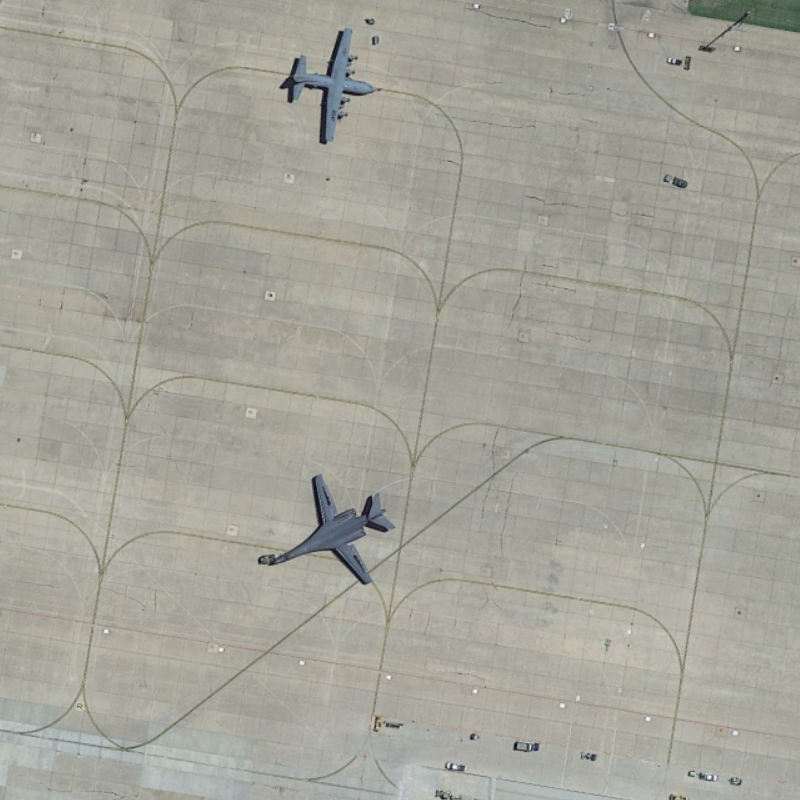A10: (262, 470, 404, 596)
A2: (275, 22, 385, 149)
